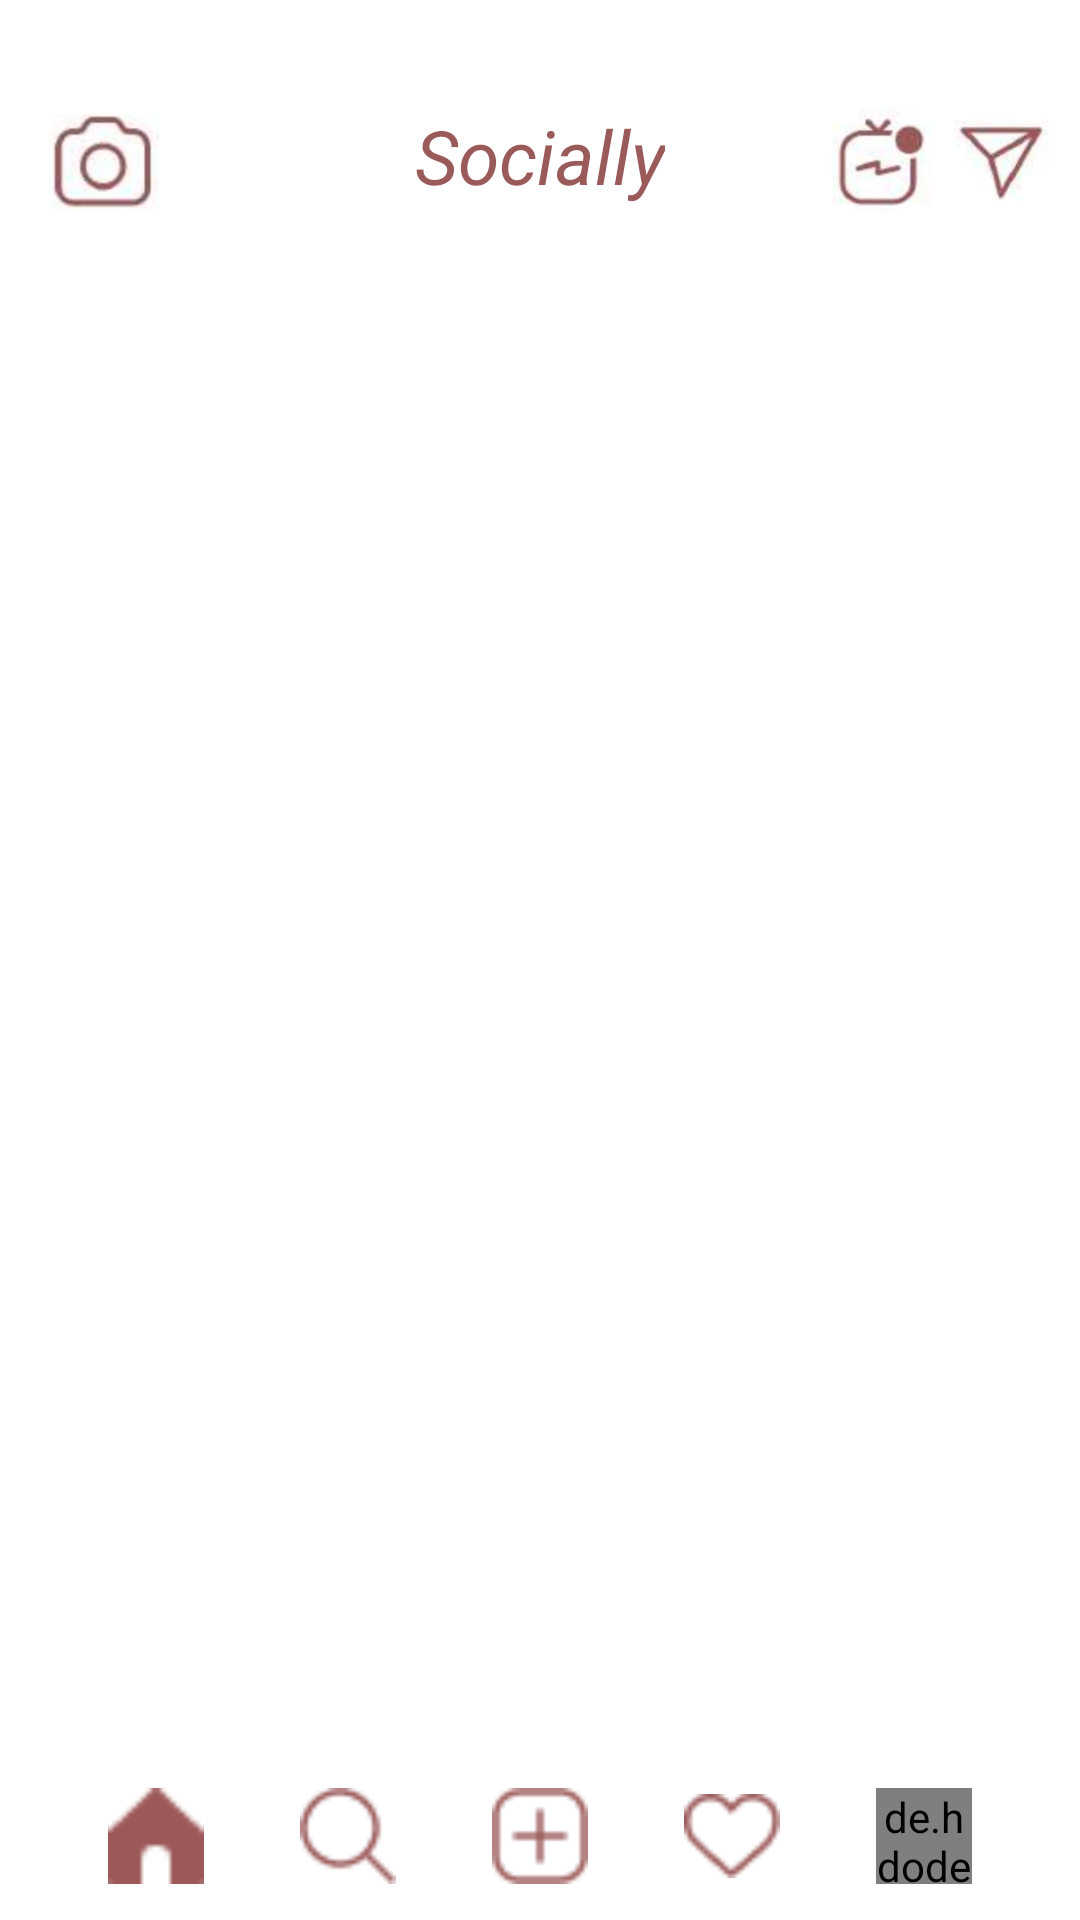

Locate icon controls on the screen. Image size 1080x1920, boxes as (x1, y1, x2, y2).
camera top: (54, 116, 152, 208)
home: (108, 1788, 204, 1884)
like: (684, 1794, 780, 1878)
search: (300, 1788, 396, 1884)
share top: (959, 126, 1043, 199)
